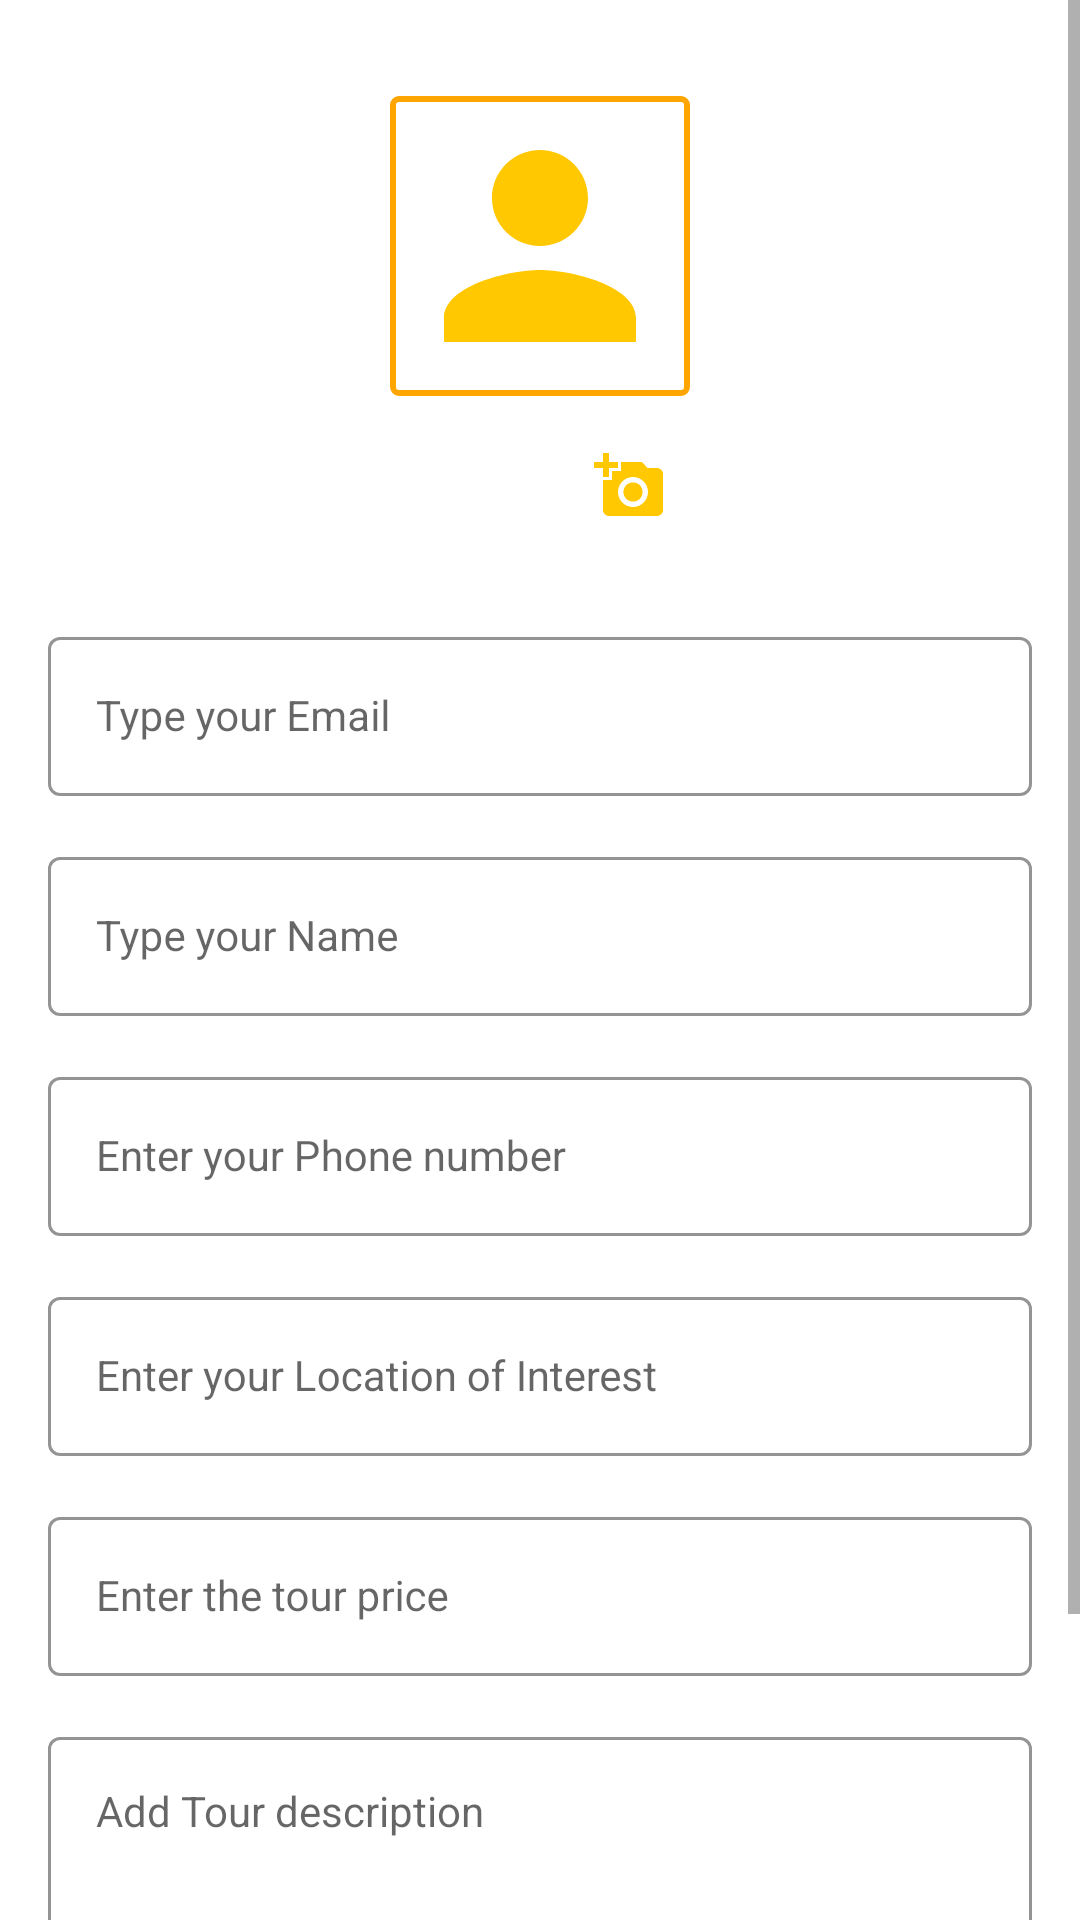

Icons on this 1080w x 1920h Android screen, each with its box as (x1, y1, x2, y2):
add photo: (594, 453, 663, 516)
person: (390, 96, 690, 396)
